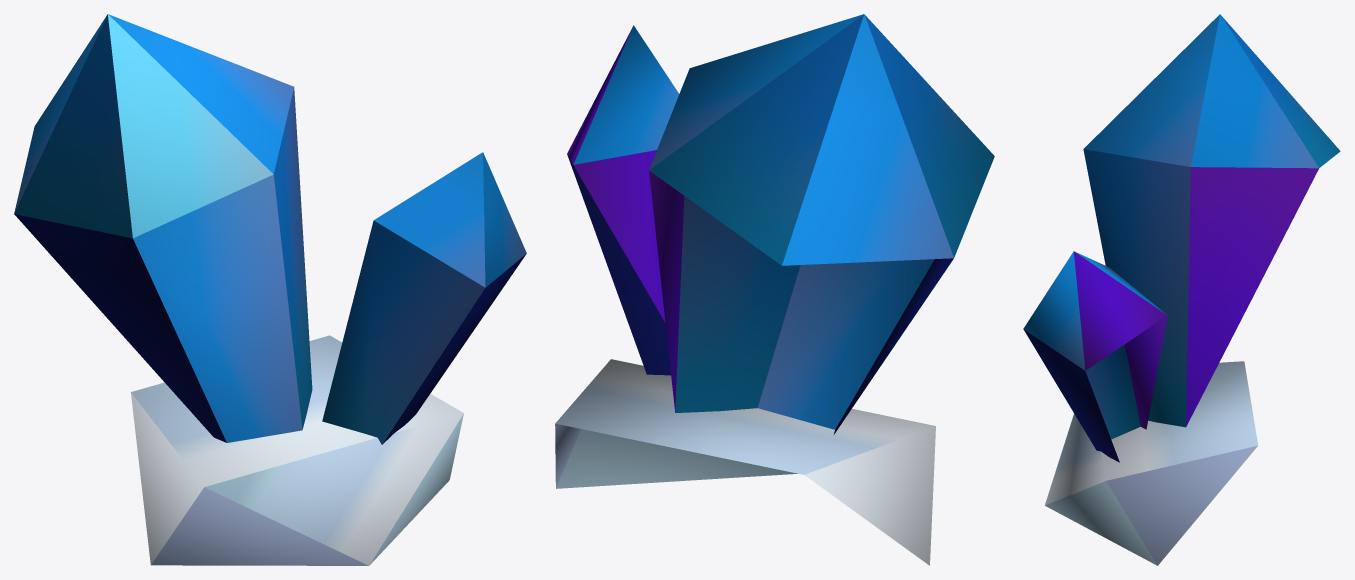
File: fg_sapphire_out.dae
The picture shows the model from 3 angles, left to right: view 1: azimuth 30°, elevation 25°; view 2: azimuth 150°, elevation 25°; view 3: azimuth 270°, elevation 25°; orthographic projection. The views are drawn at different scales.
Visible parts, largest first — view 1: fg_sapphire_out; view 2: fg_sapphire_out; view 3: fg_sapphire_out.
Part boxes in pixels (<box>): fg_sapphire_out: <box>14,14,526,565</box>; fg_sapphire_out: <box>555,14,994,565</box>; fg_sapphire_out: <box>1023,14,1340,565</box>.
Size of the model in its own units: 14.25 by 16.48 by 11.07.
Materials: 1 (1 with a texture image).
